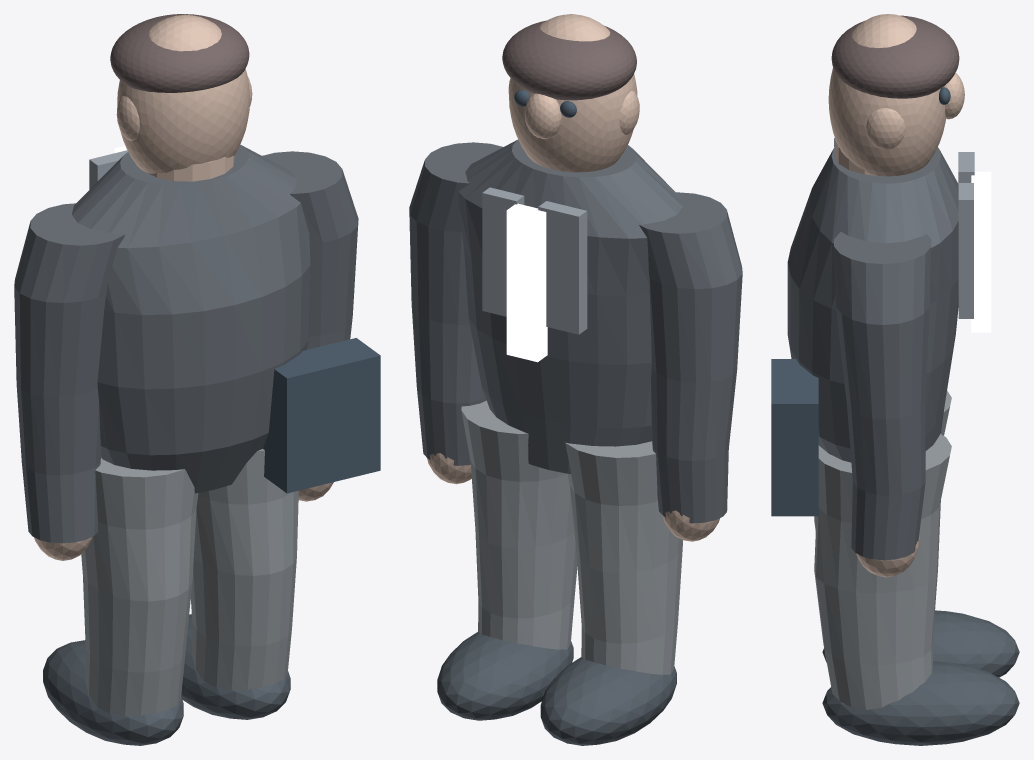
File: pedestrian_3.glb
3 views of the same model, side by side, from view 1: azimuth 30°, elevation 25°; view 2: azimuth 150°, elevation 25°; view 3: azimuth 270°, elevation 25° (orthographic). The views are drawn at different scales.
Visible parts, largest first — view 1: tailored-torso, arm_L, leg_L, leg_R, dark, skin1, rubber, arm_R, hairbrown, concrete; view 2: tailored-torso, arm_L, leg_L, leg_R, arm_R, rubber, skin1, concrete, hairbrown, warm; view 3: arm_R, tailored-torso, leg_R, rubber, skin1, dark, hairbrown, warm, concrete.
Boxes of the visible parts, box(x1,y1,x2,y2) form: tailored-torso: box(72, 144, 310, 493); arm_L: box(14, 203, 125, 543); leg_L: box(81, 458, 198, 716); leg_R: box(190, 449, 298, 690); dark: box(263, 338, 380, 493); skin1: box(34, 14, 333, 560); rubber: box(43, 614, 290, 745); arm_R: box(262, 151, 358, 349); hairbrown: box(110, 14, 249, 92); concrete: box(89, 150, 127, 189); tailored-torso: box(458, 139, 682, 473); arm_L: box(639, 192, 742, 523); leg_L: box(565, 441, 682, 674); leg_R: box(461, 400, 577, 649); arm_R: box(409, 142, 502, 465); rubber: box(437, 632, 676, 745); skin1: box(427, 14, 719, 541); concrete: box(482, 187, 587, 334); hairbrown: box(502, 20, 636, 100); warm: box(506, 203, 547, 362); arm_R: box(834, 232, 931, 560); tailored-torso: box(787, 147, 958, 462); leg_R: box(814, 434, 951, 709); rubber: box(822, 610, 1019, 745); skin1: box(828, 14, 964, 577); dark: box(771, 87, 950, 516); hairbrown: box(831, 15, 959, 98); warm: box(971, 171, 991, 332); concrete: box(958, 152, 974, 318).
Bounding box in the file's own units: 1.03 × 2.1 × 0.68.
